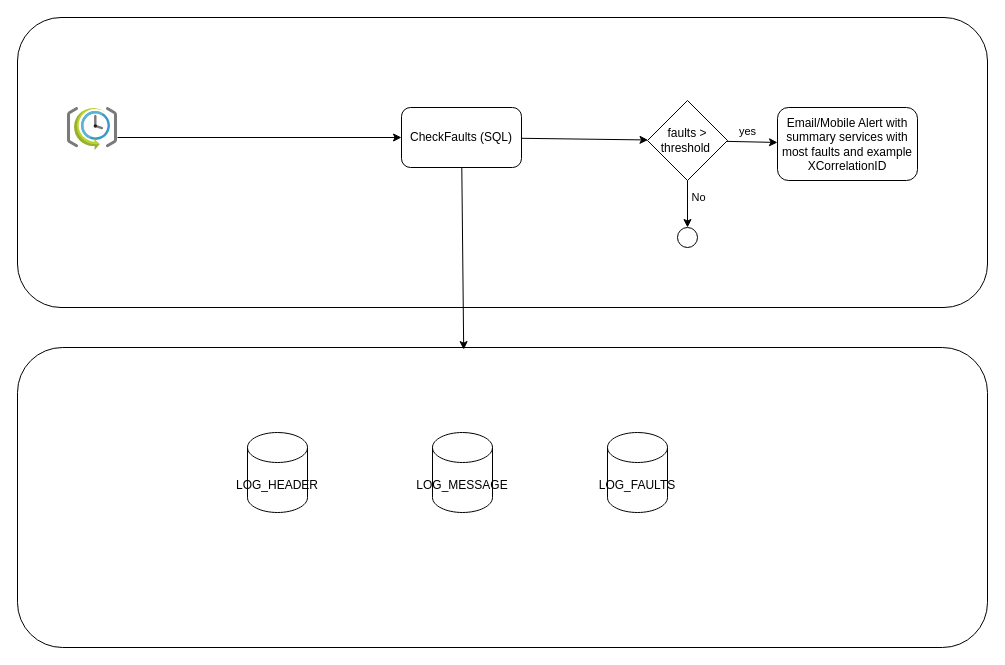
Some shapes in this 1005 by 665 pixel diagram are drawn without their labels. Here are the shapes that lost their labels. From the top down, the box of each, then its label:
(67, 107, 117, 150): Every 5 minutes
(16, 16, 988, 308): Oracle Integration Cloud OIC
(16, 346, 988, 648): Oracle Autonaomous database / ATP Logging Database
